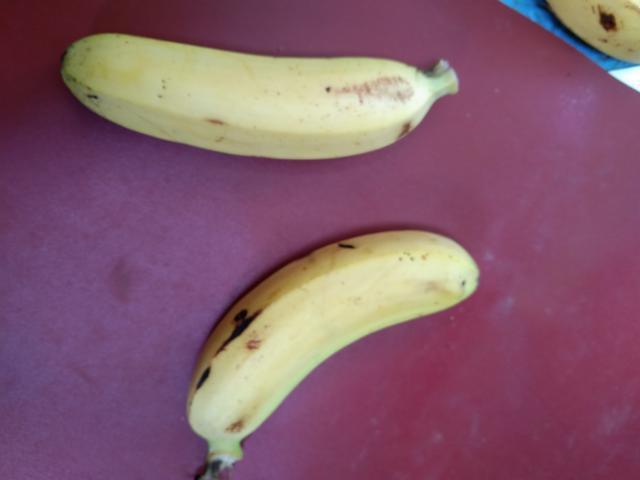freshripe: (48, 15, 452, 171)
ripe: (165, 218, 482, 456)
